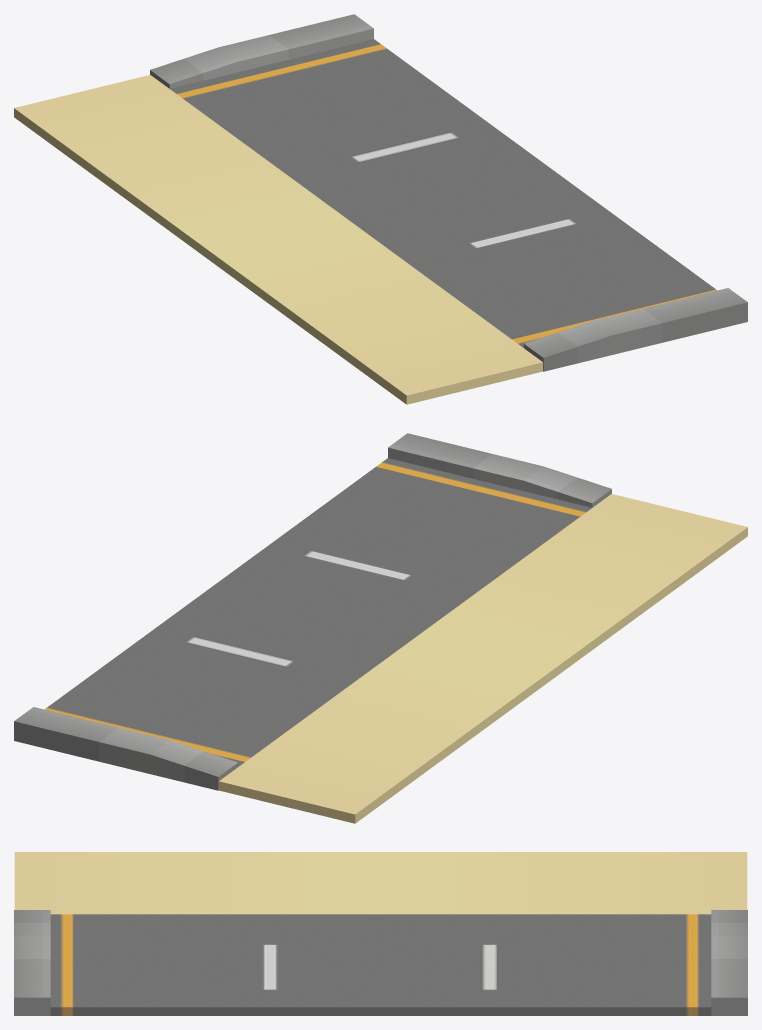
The model's file is Beach_SandPath_09.fbx.
The picture shows the model from 3 angles, top to bottom: view 1: azimuth 30°, elevation 25°; view 2: azimuth 150°, elevation 25°; view 3: azimuth 270°, elevation 25°; orthographic projection. The views are drawn at different scales.
Parts seen in each view (by area): view 1: Beach_SandPath_09; view 2: Beach_SandPath_09; view 3: Beach_SandPath_09.
Boxes of the visible parts, <box> form: Beach_SandPath_09: <box>14,14,747,404</box>; Beach_SandPath_09: <box>14,433,747,823</box>; Beach_SandPath_09: <box>14,852,747,1015</box>.
Bounding box in the file's own units: 1000 × 55.12 × 2000.
